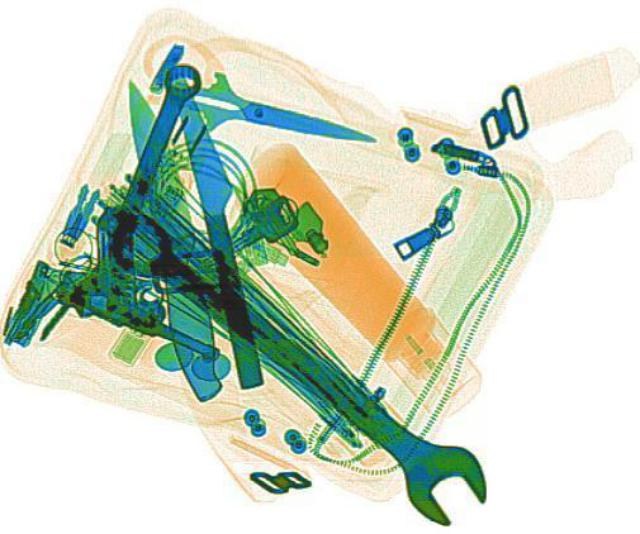Gun: (34, 198, 274, 370)
Knife: (110, 75, 228, 401), (162, 61, 278, 385), (170, 65, 384, 168)
Wrench: (82, 197, 510, 530), (62, 58, 210, 321)
